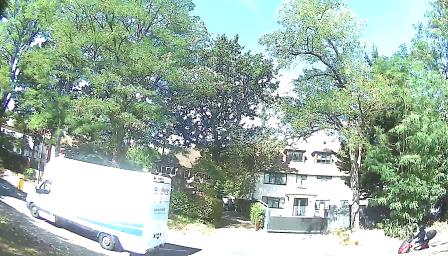Cars: (45, 154, 174, 247)
